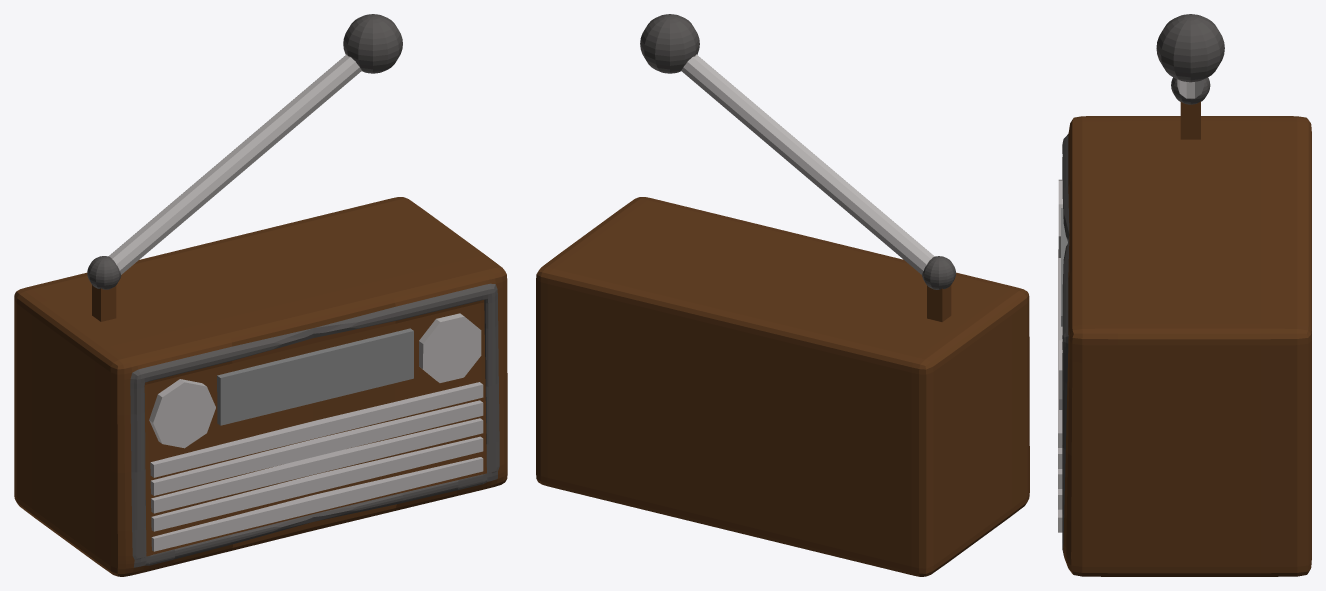
The model's file is Radio.fbx.
3 renders of one model, left to right at view 1: azimuth 30°, elevation 25°; view 2: azimuth 150°, elevation 25°; view 3: azimuth 270°, elevation 25°, orthographic. The views are drawn at different scales.
Visible parts, largest first — view 1: Radio, Screen, Button Left, Button Right; view 2: Radio; view 3: Radio, Screen, Button Right.
Part boxes in pixels (bbox=[...]): Radio: bbox=[14, 14, 507, 576]; Screen: bbox=[217, 328, 413, 425]; Button Left: bbox=[149, 379, 215, 448]; Button Right: bbox=[419, 313, 481, 382]; Radio: bbox=[536, 14, 1029, 576]; Radio: bbox=[1058, 14, 1311, 576]; Screen: bbox=[1061, 208, 1067, 326]; Button Right: bbox=[1059, 326, 1062, 409].
Size of the model in its own units: 160 by 174 by 77.56.
